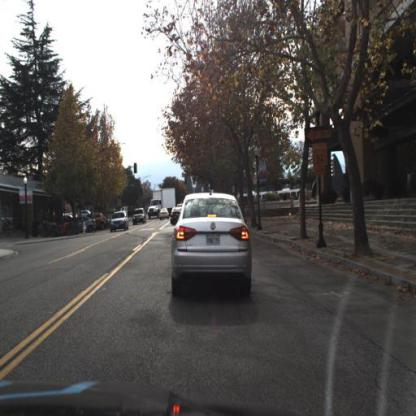car: (169, 192, 255, 298), (110, 210, 131, 235), (112, 213, 128, 233), (78, 217, 99, 232), (132, 208, 148, 226), (171, 204, 183, 225), (97, 214, 107, 231), (159, 207, 170, 220)
trafficLight-Red: (184, 175, 189, 186)
